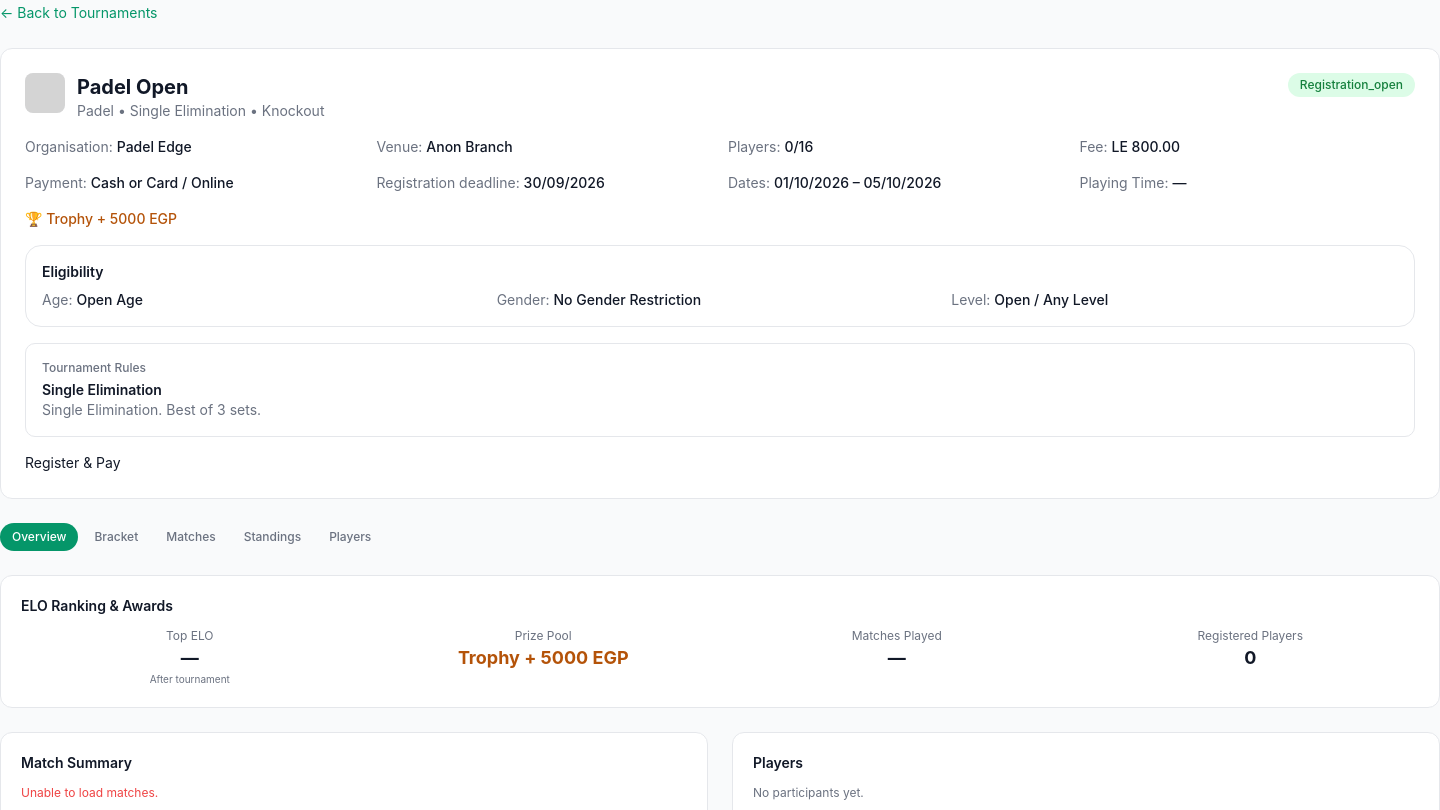
Test: TournamentDetailPage — F-02 remaining query failures (UX-12) › matches failure recovers via Retry
Expected: the heading "Padel Open" is shown, [77, 75, 188, 99]
What coordinates should you click on to do the following:
click the tab "Matches"
I would click on:
 (191, 537)
Its box is [154, 523, 228, 551].
(page scrolled)
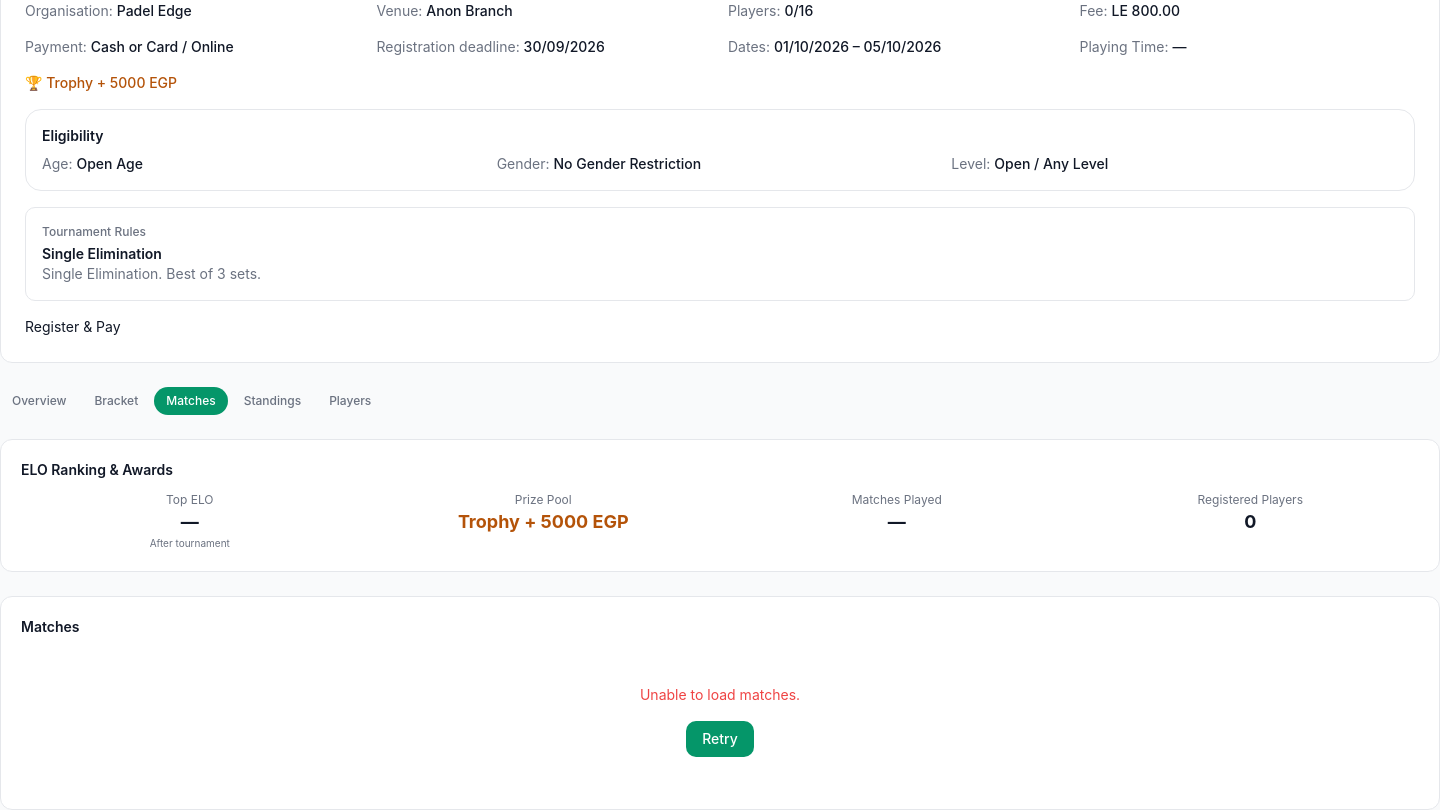
Expected: the tab "Matches" is shown, [154, 387, 228, 415]
What coordinates should you click on to do the following:
click the button "Retry"
I would click on:
 (720, 739)
Its box is [686, 721, 754, 757].
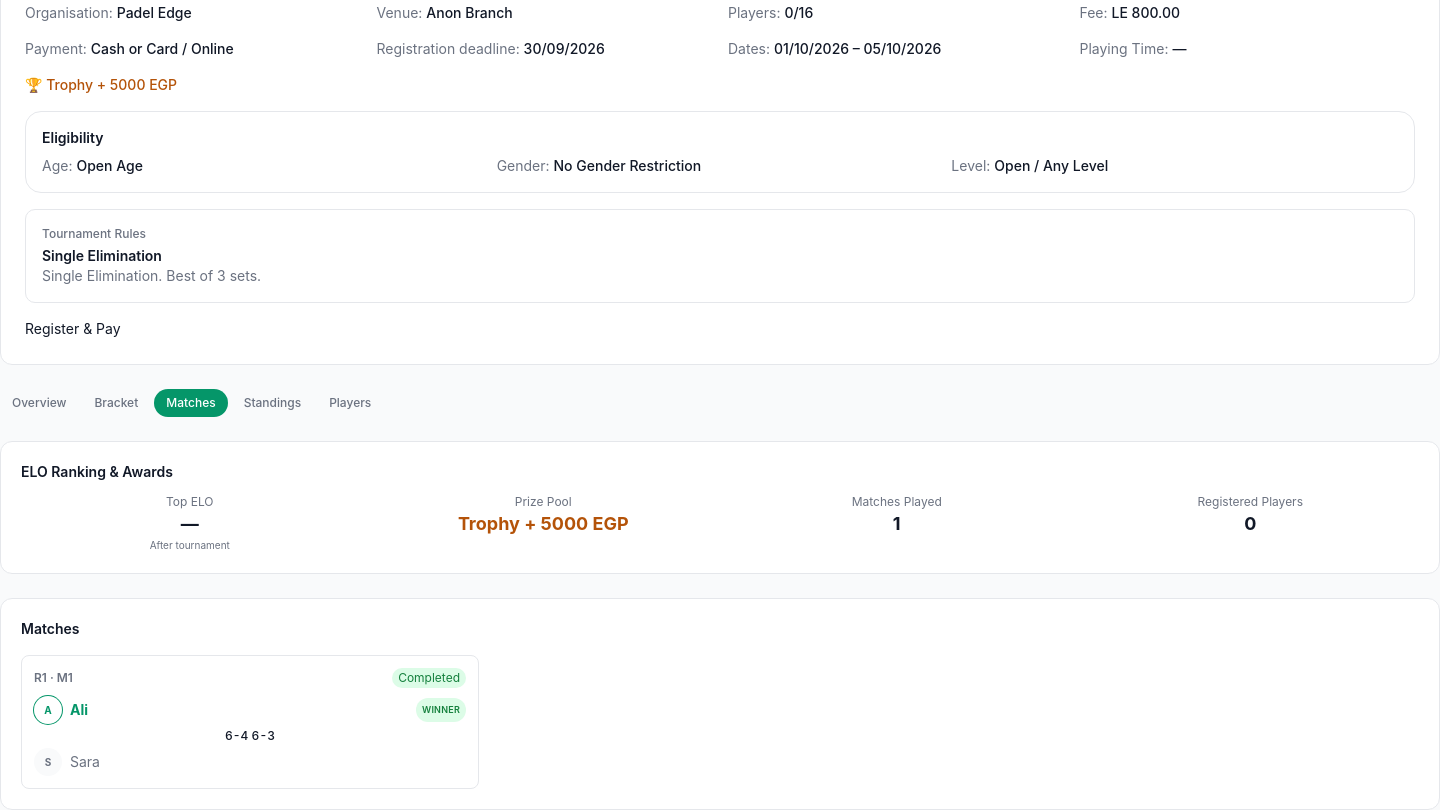
Expected: the text "6-4 6-3" is shown, [225, 728, 275, 743]
